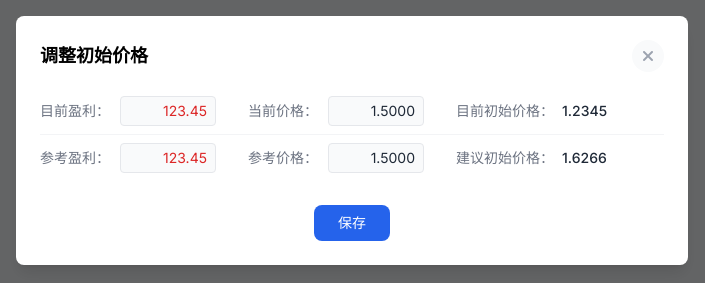
InitialPriceAdjustModal › should calculate suggested price when reference price is changed
获取参考价格输入框（第二个输入框）
Step 1. Replace the text in the field with placeholder "请输入" next to "参考价格：" with "1.4000" → (376, 158), box x1=328 y1=142 x2=424 y2=172
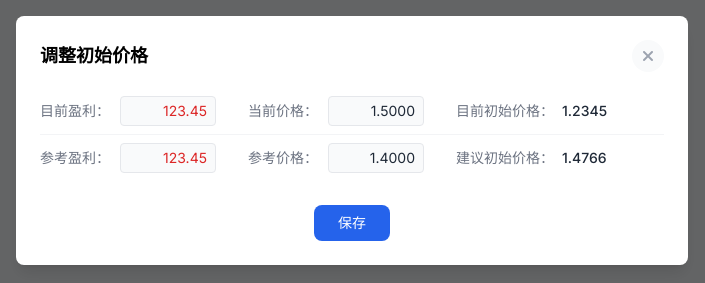
expect the text "1.4766" is shown: met, box x1=562 y1=148 x2=607 y2=168
